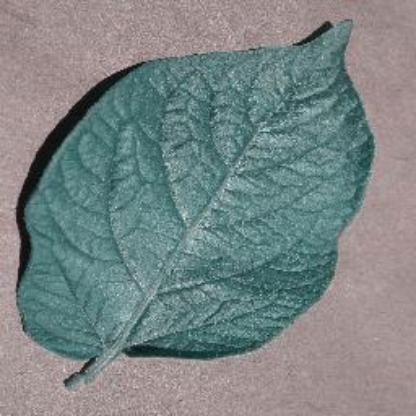Healthy-plant: (20, 13, 380, 392)
